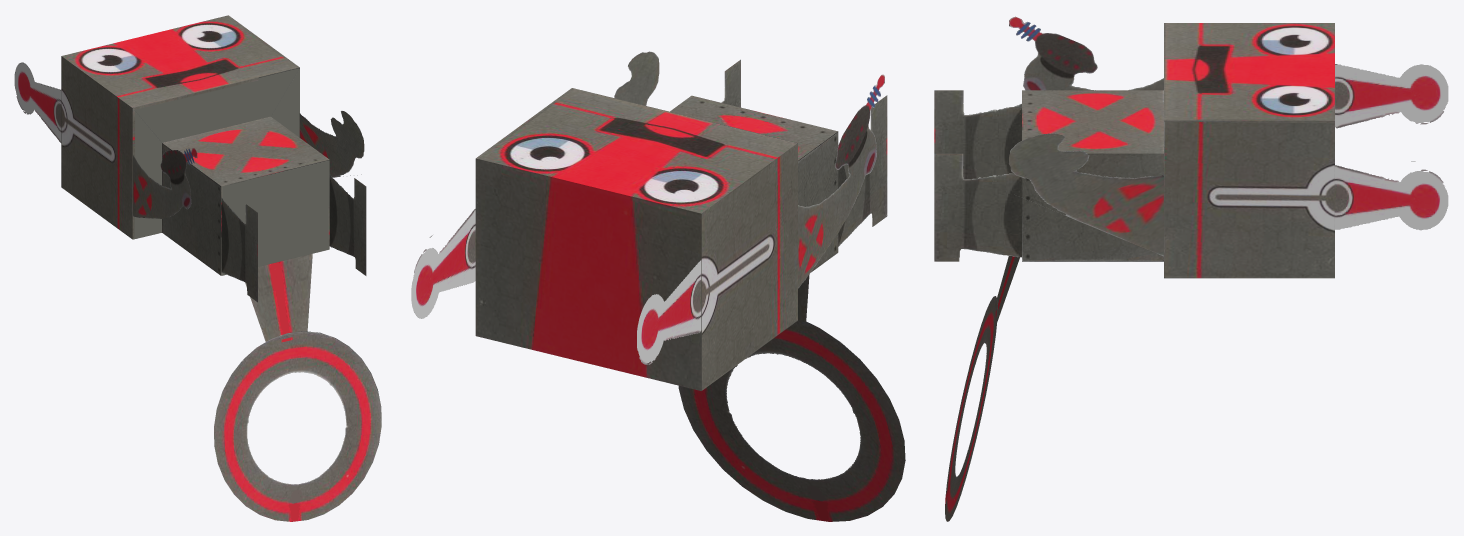
File: robot5.fbx
3 renders of one model, left to right at view 1: azimuth 30°, elevation 25°; view 2: azimuth 150°, elevation 25°; view 3: azimuth 270°, elevation 25°, orthographic. The views are drawn at different scales.
Parts seen in each view (by area): view 1: robot5; view 2: robot5; view 3: robot5.
Part boxes in pixels (x1,y1,x2,y2): robot5: (14, 15, 381, 521); robot5: (411, 51, 905, 521); robot5: (934, 16, 1448, 521).
Size of the model in its own units: 2.02 by 4.26 by 4.45.
1 material, 1 textured.
